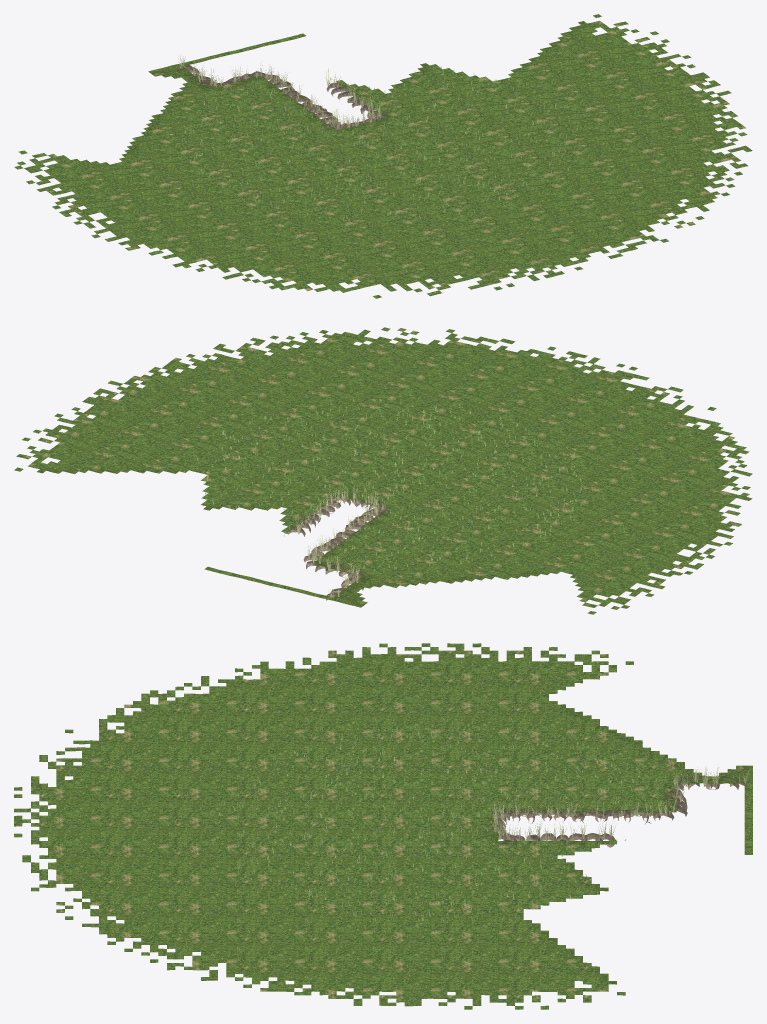
3 renders of one model, top to bottom at view 1: azimuth 30°, elevation 25°; view 2: azimuth 150°, elevation 25°; view 3: azimuth 270°, elevation 25°, orthographic. The views are drawn at different scales.
Parts seen in each view (by area): view 1: field, grass, rock, reed, grass2; view 2: field, grass, rock, reed, grass2; view 3: field, grass, rock, reed, grass2.
Part boxes in pixels (<box>): field: <box>14,14,752,298</box>; grass: <box>182,66,578,223</box>; rock: <box>179,63,390,130</box>; reed: <box>178,55,382,128</box>; grass2: <box>184,67,578,224</box>; field: <box>14,327,752,614</box>; grass: <box>197,399,582,570</box>; rock: <box>283,494,392,600</box>; reed: <box>296,484,384,597</box>; grass2: <box>193,399,581,568</box>; field: <box>14,643,752,1009</box>; grass: <box>210,723,674,925</box>; rock: <box>485,775,748,847</box>; reed: <box>491,767,748,840</box>; grass2: <box>214,725,670,925</box>.
Bounding box in the file's own units: 51 × 1.64 × 43.5.
Materials: 5 (2 with a texture image).
